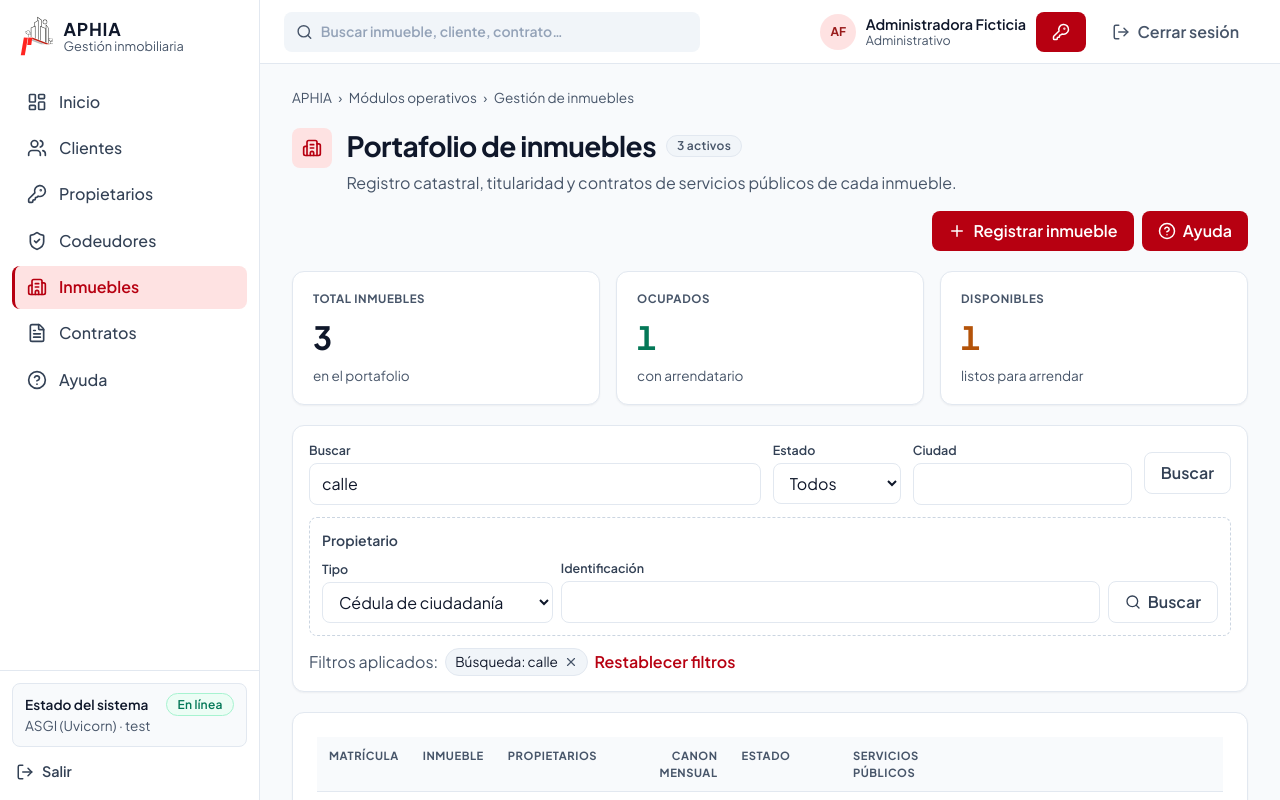
Test case: InmueblesPage › restablece los filtros y elimina mostrando el 409 de la API
Click the button "Restablecer filtros" at (665, 662), box [595, 650, 735, 674]
(page scrolled)
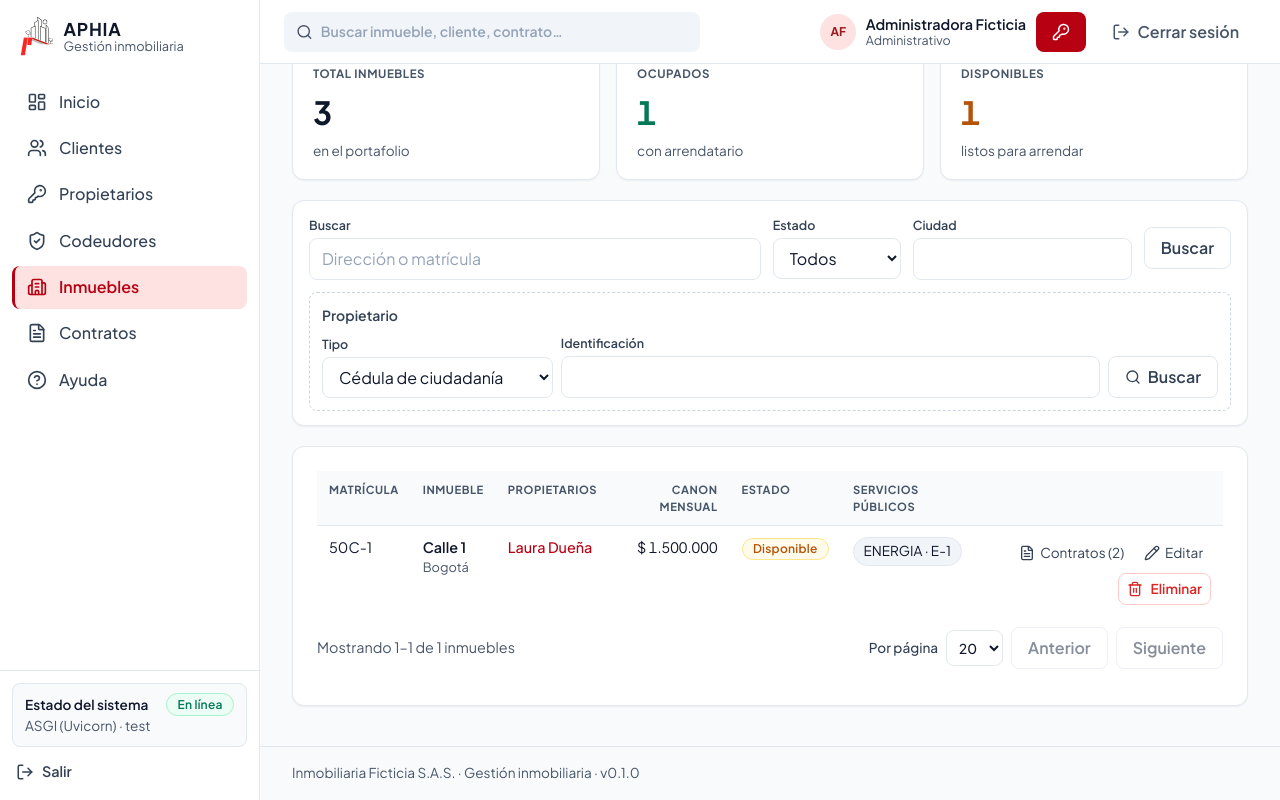
Click the button with aria-label "Eliminar Calle 1" at (1165, 589), box [1118, 573, 1211, 605]
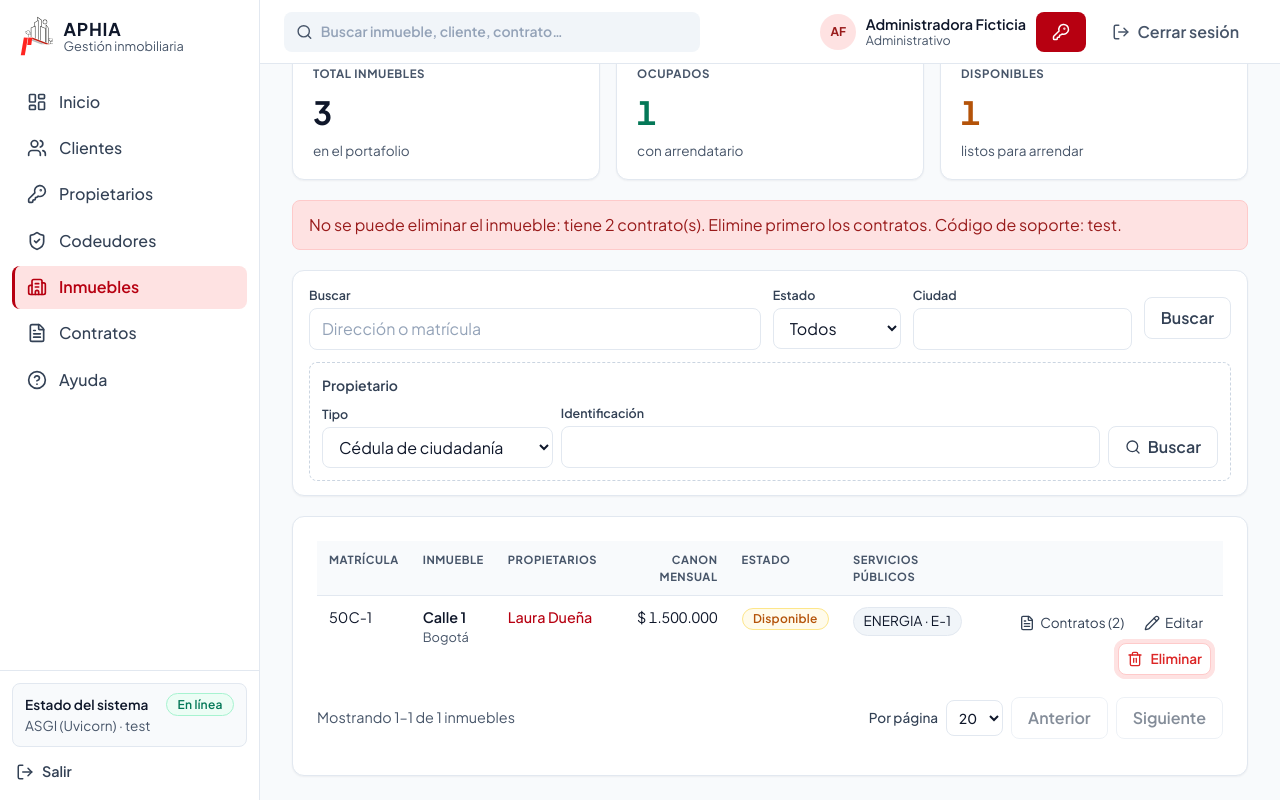
Now the text "tiene 2 contrato(s)" is shown, box [309, 214, 1122, 235]
